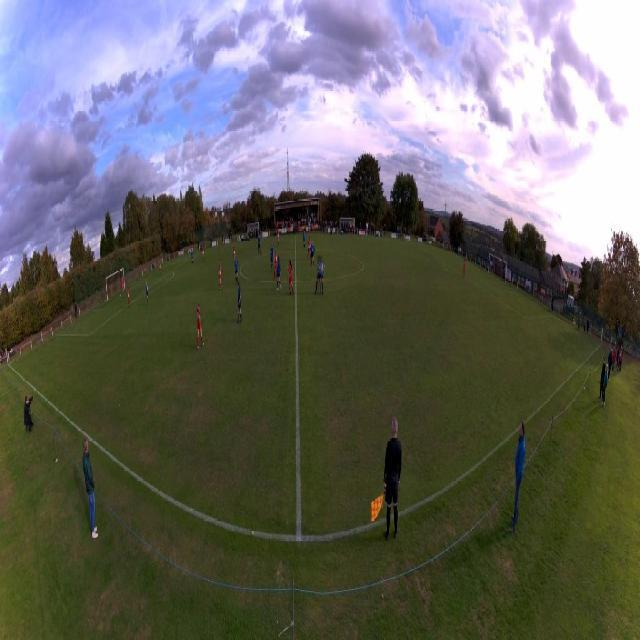ball: (120, 294, 121, 296)
player: (314, 255, 326, 295), (197, 301, 205, 350), (236, 281, 242, 323), (288, 260, 294, 297), (276, 256, 282, 292), (273, 251, 279, 280), (310, 241, 316, 267), (234, 252, 238, 286), (218, 260, 222, 291), (270, 242, 274, 272), (307, 237, 312, 259), (231, 243, 236, 264), (302, 230, 306, 249), (258, 237, 262, 256), (145, 281, 148, 306), (127, 286, 130, 308), (463, 258, 466, 279), (277, 228, 280, 246), (159, 261, 162, 277), (122, 278, 125, 293), (257, 232, 260, 246), (191, 248, 193, 266), (203, 246, 205, 262)
